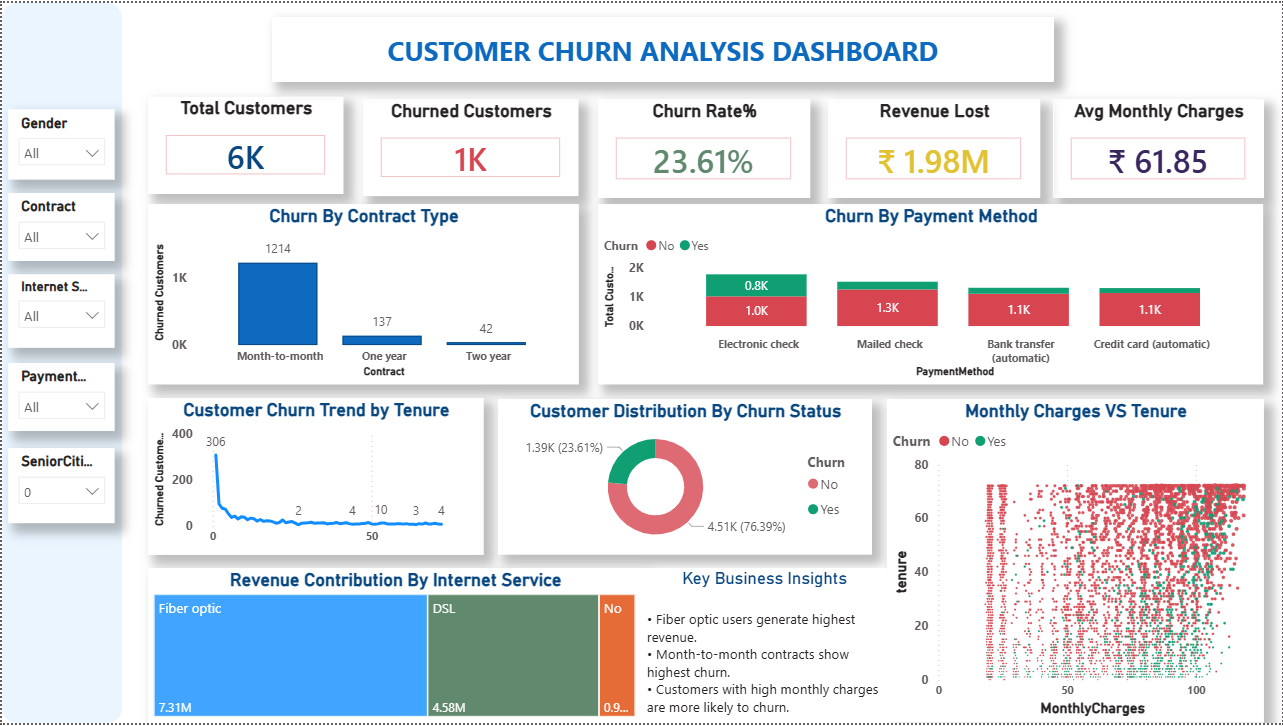

The page's visual inventory and layout, read from the dashboard file:
{"tool":"powerbi","page":{"name":"Page 1","canvas":[1280,720],"ordinal":0},"visuals":[{"type":"shape","box":[0,0,120,720],"z":0},{"type":"shape","box":[270,13.3,781.7,65],"z":1000},{"type":"cardVisual","title":"Total Customers","fields":{"Data":["customer_churn_analysis churn_analysis.Total Customers"]},"box":[146.7,93.3,195,96.7],"z":2000},{"type":"cardVisual","title":"Churned Customers","fields":{"Data":["customer_churn_analysis churn_analysis.Churned Customers"]},"box":[361.7,96.7,215,96.7],"z":3000},{"type":"cardVisual","title":"Churn Rate%","fields":{"Data":["customer_churn_analysis churn_analysis.Churn Rate %"]},"box":[596.7,96.7,211.7,98.3],"z":4000},{"type":"cardVisual","title":"Revenue Lost","fields":{"Data":["customer_churn_analysis churn_analysis.Revenue Lost"]},"box":[826.7,96.7,211.7,98.3],"z":5000},{"type":"cardVisual","title":"Avg Monthly Charges ","fields":{"Data":["customer_churn_analysis churn_analysis.Avg Monthly Charges"]},"box":[1051.7,96.7,210,98.3],"z":6000},{"type":"clusteredColumnChart","title":"Churn By Contract Type","fields":{"Y":["customer_churn_analysis churn_analysis.Churned Customers"],"Category":["customer_churn_analysis churn_analysis.Contract"]},"box":[146.7,201.7,430,180],"z":7000},{"type":"columnChart","title":"Churn By Payment Method","fields":{"Category":["customer_churn_analysis churn_analysis.PaymentMethod"],"Y":["customer_churn_analysis churn_analysis.Total Customers"],"Series":["customer_churn_analysis churn_analysis.Churn"]},"box":[596.7,201.7,665,180],"z":8000},{"type":"lineChart","title":"Customer Churn Trend by Tenure","fields":{"Y":["customer_churn_analysis churn_analysis.Churned Customers"],"Category":["customer_churn_analysis churn_analysis.tenure.Variation.Date Hierarchy.Month"]},"box":[146.7,395,335,156.7],"z":9000},{"type":"donutChart","title":"Customer Distribution By Churn Status","fields":{"Category":["customer_churn_analysis churn_analysis.Churn"],"Y":["CountNonNull(customer_churn_analysis churn_analysis.customerID)"]},"box":[496.7,396.7,373.3,155],"z":10000},{"type":"scatterChart","title":"Monthly Charges VS Tenure","fields":{"X":["customer_churn_analysis churn_analysis.MonthlyCharges"],"Series":["customer_churn_analysis churn_analysis.Churn"],"Size":["Sum(customer_churn_analysis churn_analysis.TotalCharges)"],"Y":["customer_churn_analysis churn_analysis.tenure"]},"box":[885,396.7,376.7,323.3],"z":11000},{"type":"treemap","title":"Revenue Contribution By Internet Service ","fields":{"Group":["customer_churn_analysis churn_analysis.InternetService"],"Values":["customer_churn_analysis churn_analysis.Revenue by Internet Service"]},"box":[146.7,565,493.3,155],"z":12000},{"type":"slicer","fields":{"Values":["customer_churn_analysis churn_analysis.gender"]},"box":[6.7,106.7,106.7,70],"z":14000},{"type":"slicer","fields":{"Values":["customer_churn_analysis churn_analysis.Contract"]},"box":[6.7,190,106.7,68.3],"z":15000},{"type":"slicer","fields":{"Values":["customer_churn_analysis churn_analysis.InternetService"]},"box":[6.7,271.7,106.7,73.3],"z":16000},{"type":"slicer","fields":{"Values":["customer_churn_analysis churn_analysis.PaymentMethod"]},"box":[6.7,360,106.7,68.3],"z":17000},{"type":"slicer","fields":{"Values":["customer_churn_analysis churn_analysis.SeniorCitizen"]},"box":[6.7,445,106.7,75],"z":18000},{"type":"textbox","title":"Key Business Insights","box":[640,565,245,155],"z":19000}]}

Visuals, with their boxes in screenshot pixels (x1, y1, x2, y2), scaled from the page's 1280x720 canvas onto the 1283x726 screenshot:
shape: select_region(0, 0, 120, 725)
shape: select_region(271, 13, 1054, 79)
"Total Customers" cardVisual: select_region(147, 94, 343, 192)
"Churned Customers" cardVisual: select_region(363, 98, 578, 195)
"Churn Rate%" cardVisual: select_region(598, 98, 810, 197)
"Revenue Lost" cardVisual: select_region(829, 98, 1041, 197)
"Avg Monthly Charges " cardVisual: select_region(1054, 98, 1265, 197)
"Churn By Contract Type" clusteredColumnChart: select_region(147, 203, 578, 385)
"Churn By Payment Method" columnChart: select_region(598, 203, 1265, 385)
"Customer Churn Trend by Tenure" lineChart: select_region(147, 398, 483, 556)
"Customer Distribution By Churn Status" donutChart: select_region(498, 400, 872, 556)
"Monthly Charges VS Tenure" scatterChart: select_region(887, 400, 1265, 725)
"Revenue Contribution By Internet Service " treemap: select_region(147, 570, 642, 725)
slicer - customer_churn_analysis churn_analysis.gender: select_region(7, 108, 114, 178)
slicer - customer_churn_analysis churn_analysis.Contract: select_region(7, 192, 114, 260)
slicer - customer_churn_analysis churn_analysis.InternetService: select_region(7, 274, 114, 348)
slicer - customer_churn_analysis churn_analysis.PaymentMethod: select_region(7, 363, 114, 432)
slicer - customer_churn_analysis churn_analysis.SeniorCitizen: select_region(7, 449, 114, 524)
"Key Business Insights" textbox: select_region(642, 570, 887, 725)
